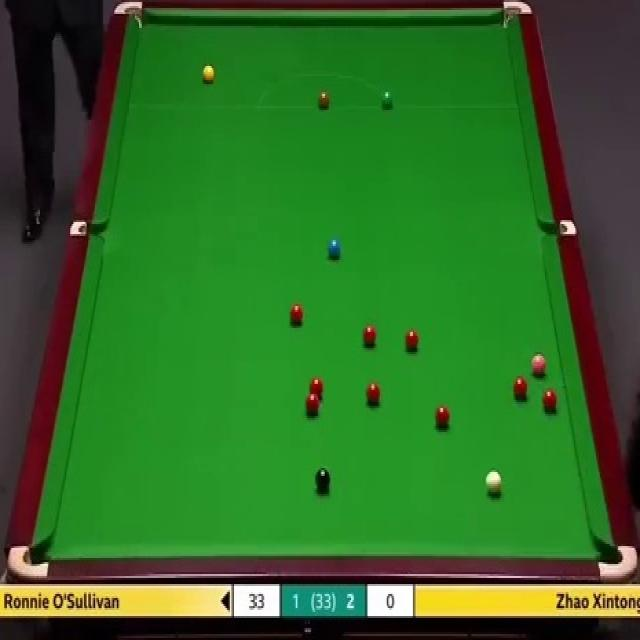pocket: (598, 540, 638, 583), (8, 542, 48, 582), (114, 0, 144, 25), (504, 0, 530, 28), (67, 220, 107, 238), (540, 220, 577, 234)
